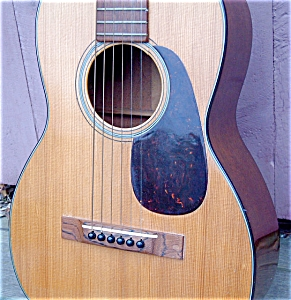guitar: (8, 1, 281, 300)
